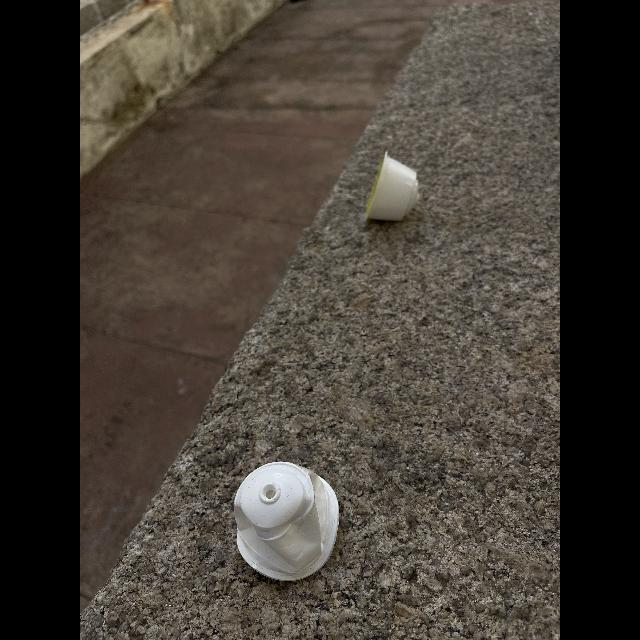damaged_capsule: (230, 454, 348, 590)
intact_capsule: (362, 150, 430, 232)
